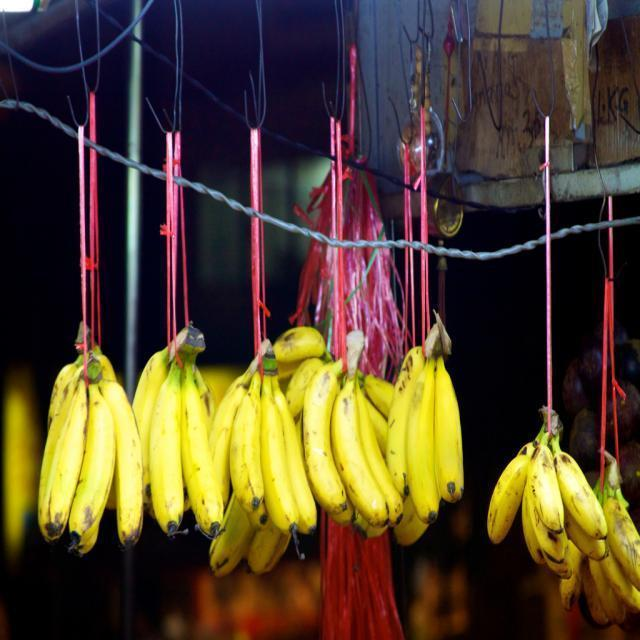Banana: (39, 330, 143, 558), (480, 404, 614, 580), (292, 339, 411, 537), (216, 336, 320, 536), (135, 322, 223, 540), (386, 322, 470, 530)
